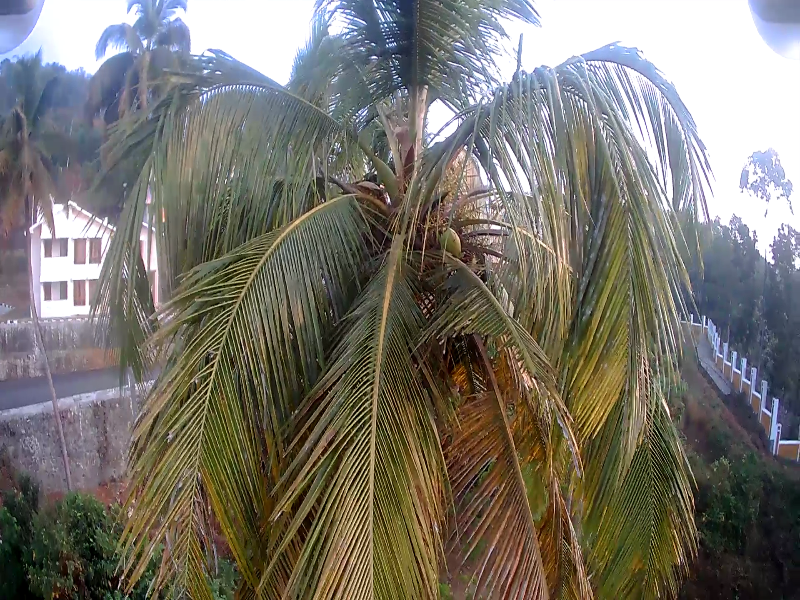coconut: (438, 221, 461, 260)
